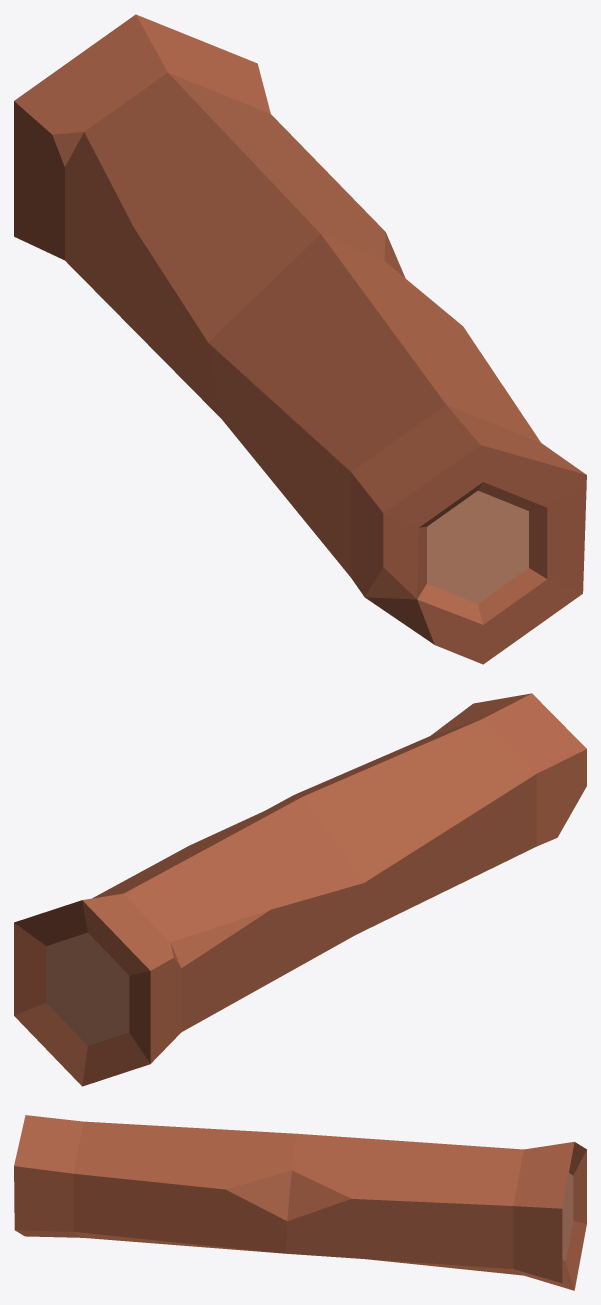
File: Log.glb
3 renders of one model, top to bottom at view 1: azimuth 30°, elevation 25°; view 2: azimuth 150°, elevation 25°; view 3: azimuth 270°, elevation 25°, orthographic. The views are drawn at different scales.
Parts seen in each view (by area): view 1: Log_Cylinder.002; view 2: Log_Cylinder.002; view 3: Log_Cylinder.002.
Boxes of the visible parts, x1,y1,x2,y2 form: Log_Cylinder.002: (14, 14, 586, 664); Log_Cylinder.002: (14, 693, 586, 1086); Log_Cylinder.002: (14, 1115, 586, 1290).
Bounding box in the file's own units: 0.7207 × 0.5281 × 1.84.
